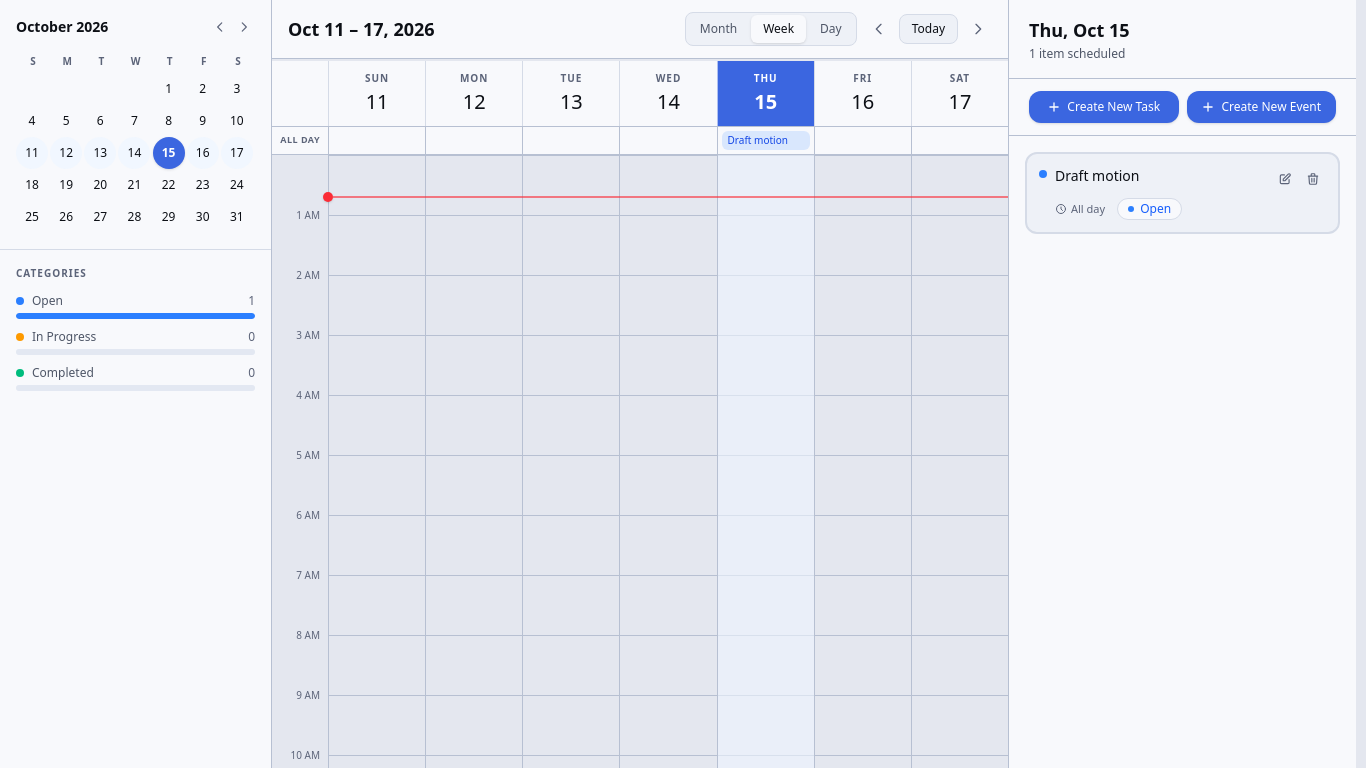
Test: a successful action: deleting a task › removes the task from the calendar once the server confirms the delete
This screenshot has width=1366, height=768.
Expected: the button "Today" is shown, [899,14,958,44]
Step 1. Click the button named "Delete task" → (1313, 179), box [1300,166,1326,192]
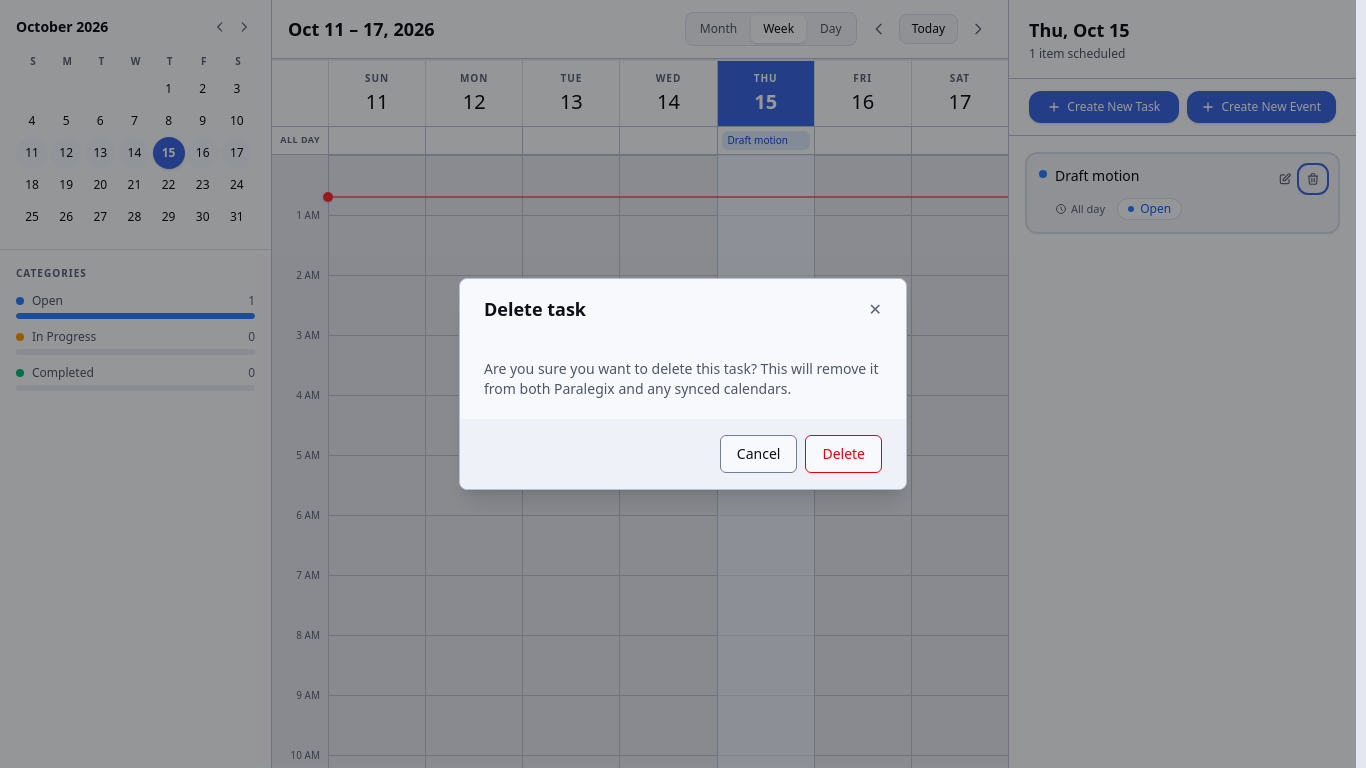
Step 2. Click the button "Delete" → (844, 454), box [805,435,882,473]
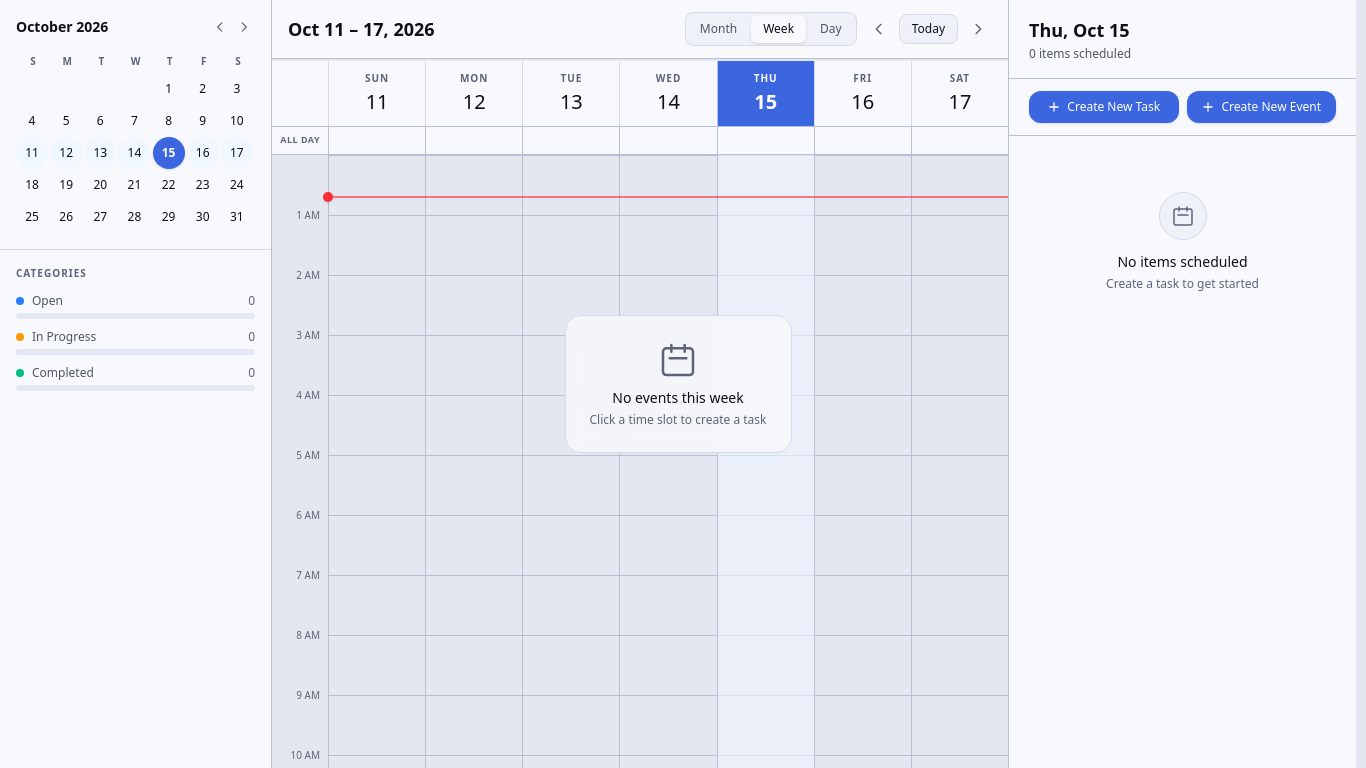
Now the button "Draft motion" is gone
